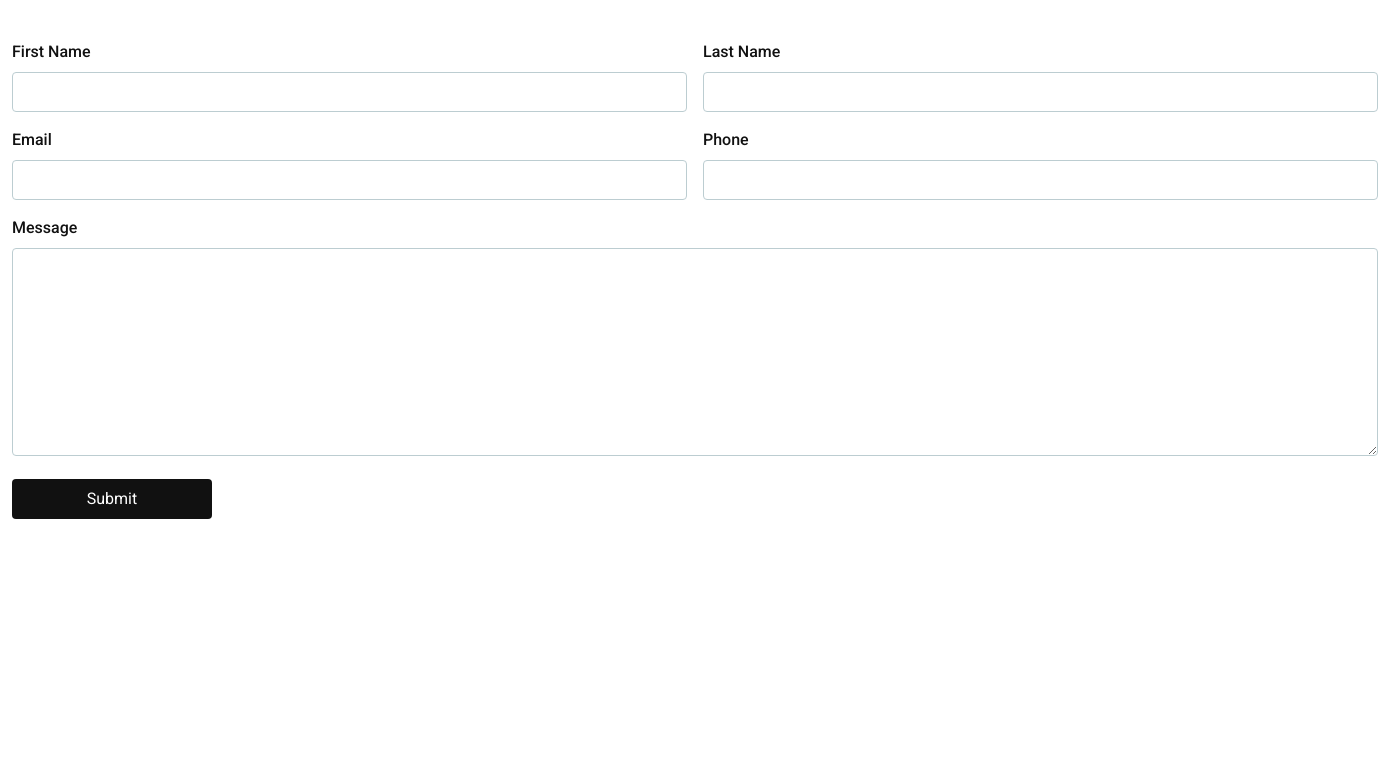
Test: ContactForm › submits the form and shows success message
Type "Daniel" into the field labelled "First Name".
click(350, 92); type("Daniel")  # box [12, 72, 687, 112]
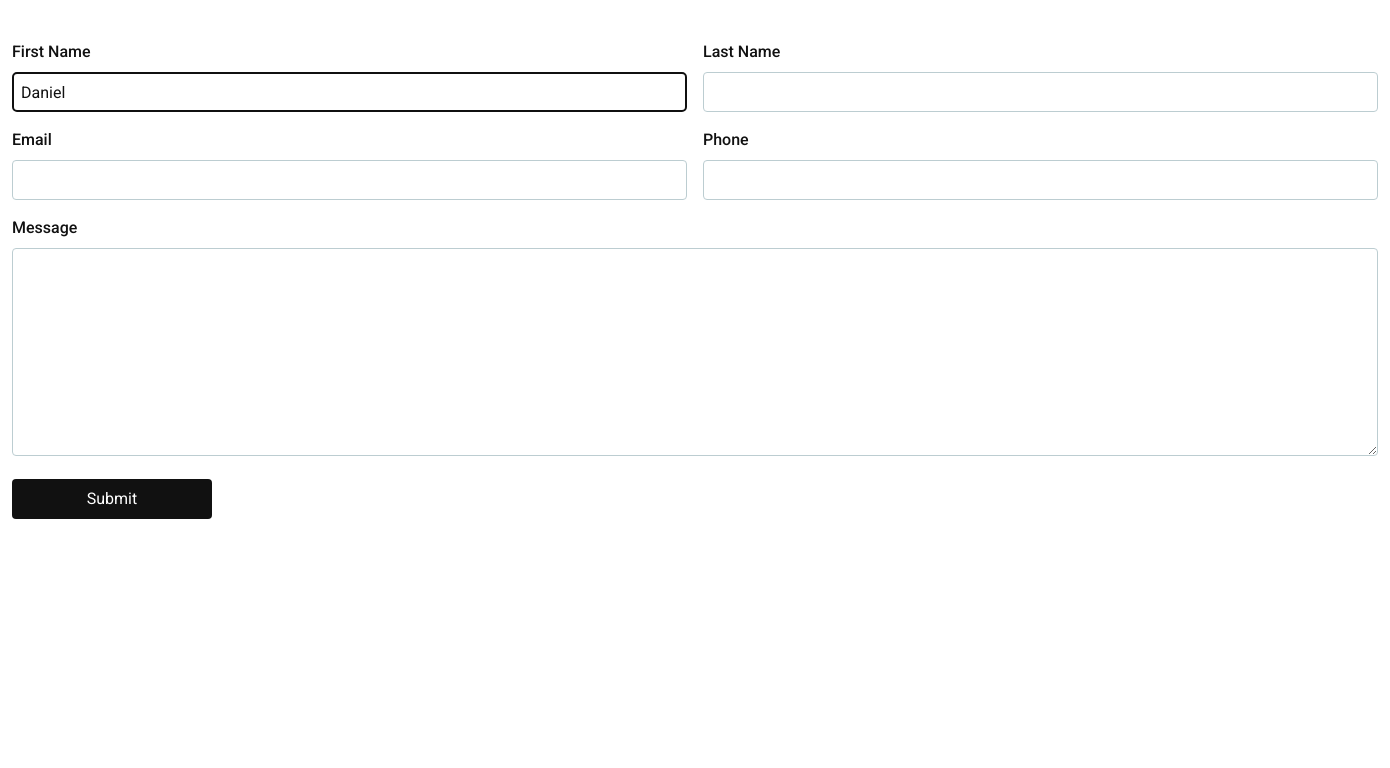
Type "Juarez" into the field labelled "Last Name".
click(1040, 92); type("Juarez")  # box [703, 72, 1378, 112]
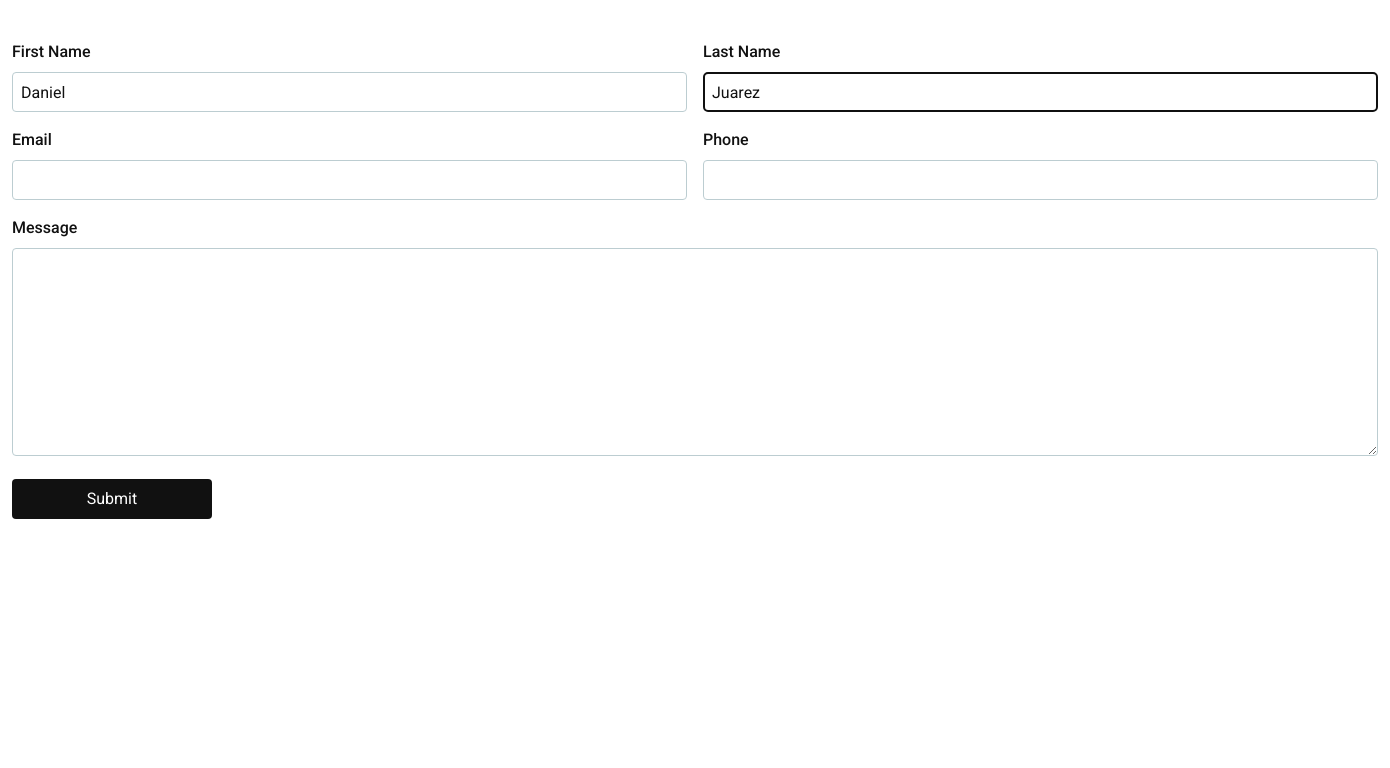
Type "dan@example.com" into the field labelled "Email".
click(350, 180); type("dan@example.com")  # box [12, 160, 687, 200]
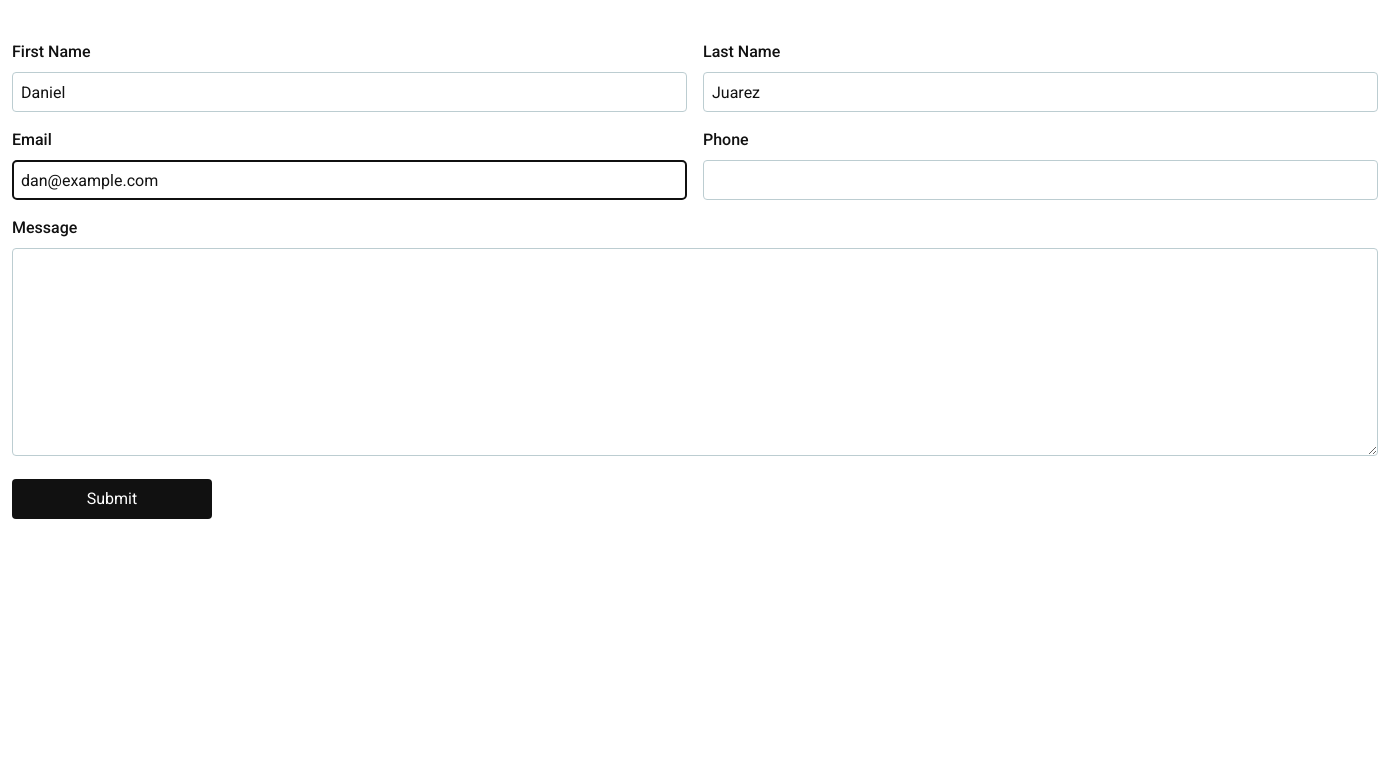
Type "3135555555" into the field labelled "Phone".
click(1040, 180); type("3135555555")  # box [703, 160, 1378, 200]
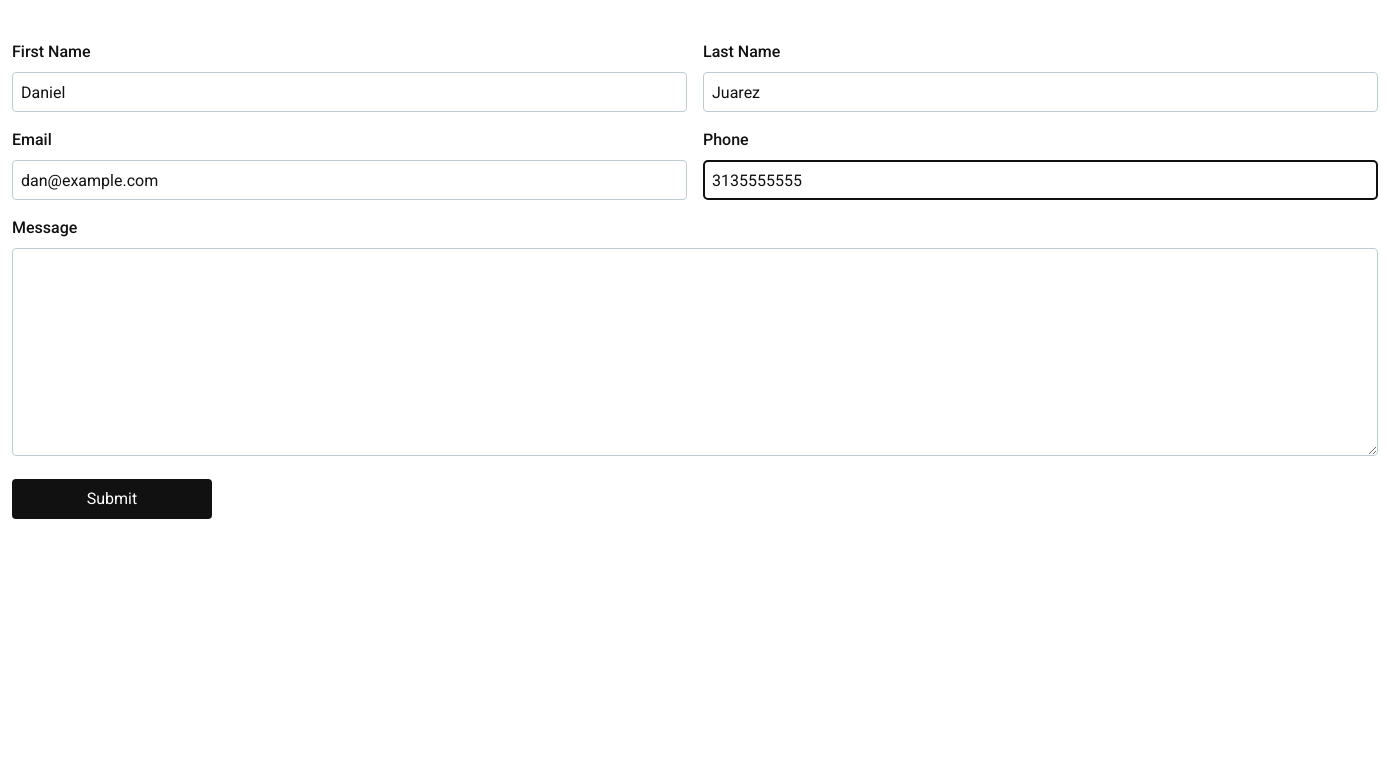
Type "This is a test." into the text box labelled "Message".
click(695, 352); type("This is a test.")  # box [12, 248, 1378, 456]
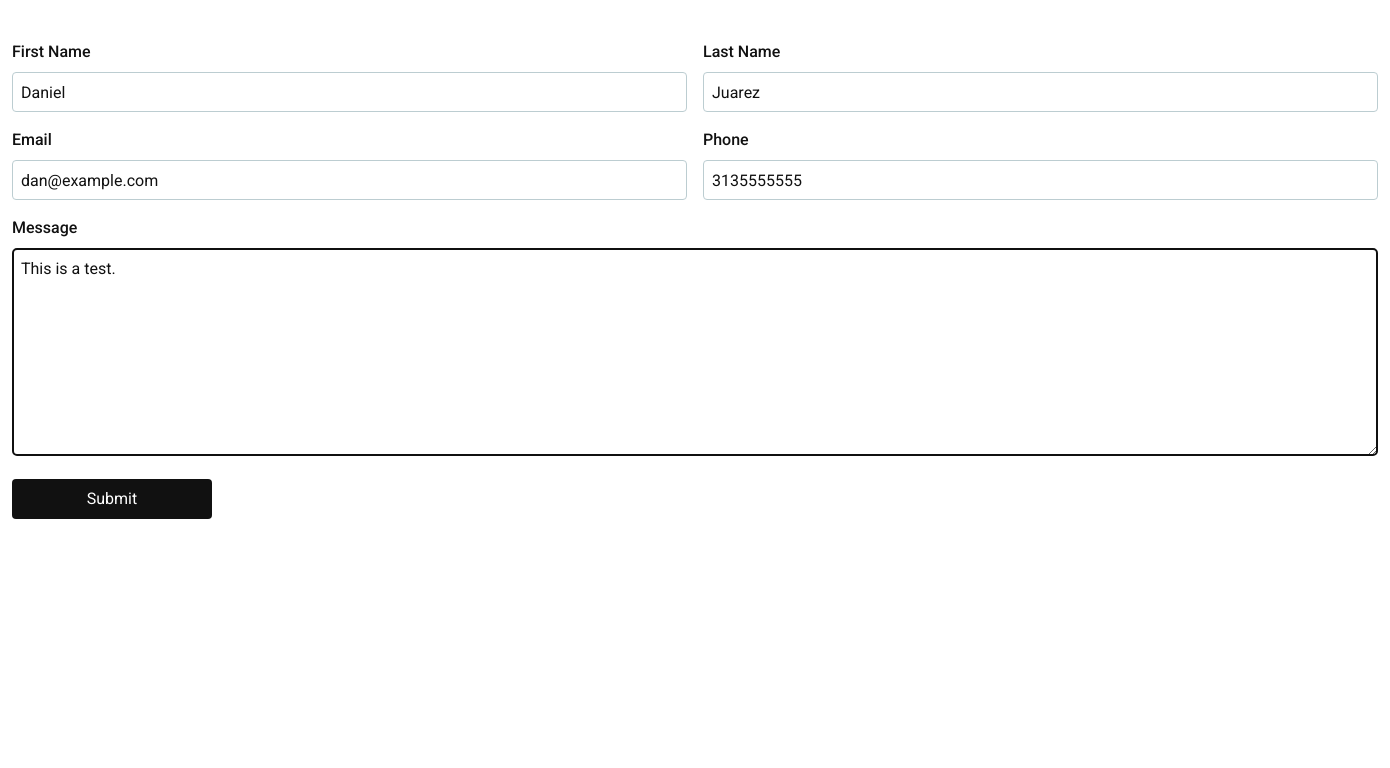
Click the button "Submit".
click(112, 499)  # box [12, 479, 212, 519]
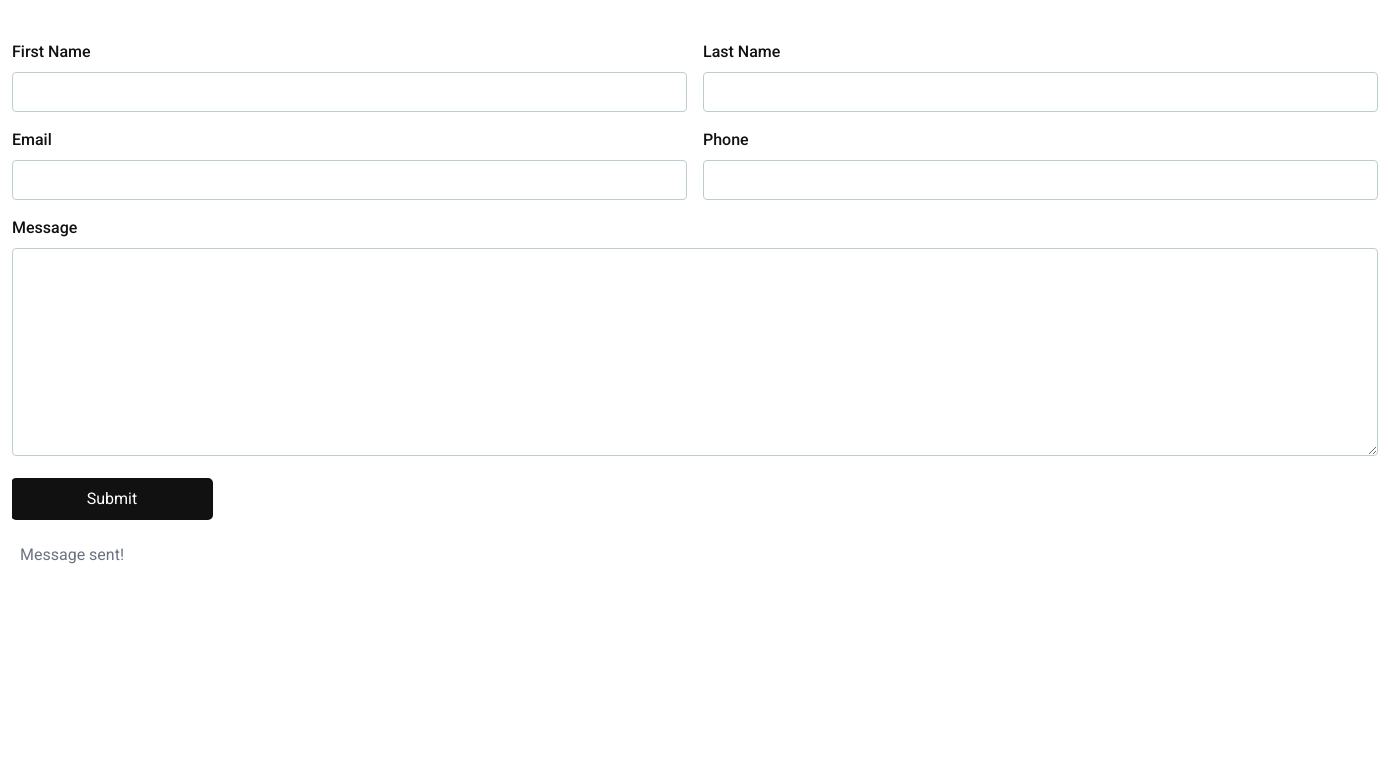
expect the text "Message sent!" is shown: met, box [20, 545, 124, 564]
